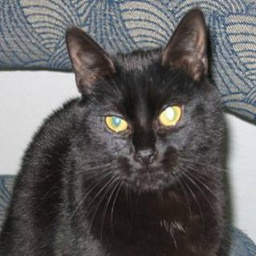cat: (8, 13, 231, 256)
